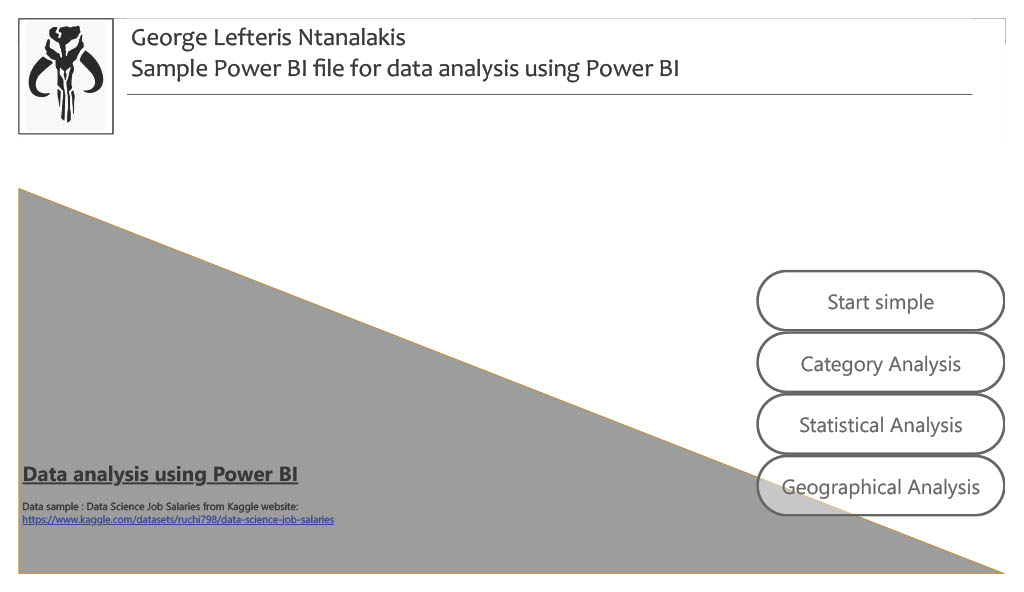

The page's visual inventory and layout, read from the dashboard file:
{"tool":"powerbi","page":{"name":"Front Page Menu","canvas":[1280,720],"ordinal":0},"visuals":[{"type":"shape","box":[0,219.9,1279,500.1],"z":0},{"type":"actionButton","title":"Start Simple","box":[957.5,566.1,322.5,80.1],"z":1000},{"type":"actionButton","title":"Start Simple","box":[957.5,325.9,322.5,80.1],"z":2000},{"type":"actionButton","title":"Start Simple","box":[957.5,406,322.5,80.1],"z":3000},{"type":"actionButton","title":"Start Simple","box":[957.5,486.1,322.5,80.1],"z":4000},{"type":"textbox","box":[0,566.2,639.5,143.7],"z":5000},{"type":"shape","box":[0,0,123.2,149.7],"z":6000},{"type":"image","box":[0,0,123.2,149.7],"z":7000},{"type":"shape","box":[140.8,71.9,1096.5,51.7],"z":8000},{"type":"textbox","box":[140.8,0,1096.5,97.7],"z":9000}]}

Visuals, with their boxes in screenshot pixels (x1, y1, x2, y2), scaled from the page's 1280x720 canvas onto the 1024x592 screenshot:
shape: (0,181,1023,591)
"Start Simple" actionButton: (766,465,1023,531)
"Start Simple" actionButton: (766,268,1023,334)
"Start Simple" actionButton: (766,334,1023,400)
"Start Simple" actionButton: (766,400,1023,466)
textbox: (0,466,512,584)
shape: (0,0,99,123)
image: (0,0,99,123)
shape: (113,59,990,102)
textbox: (113,0,990,80)
